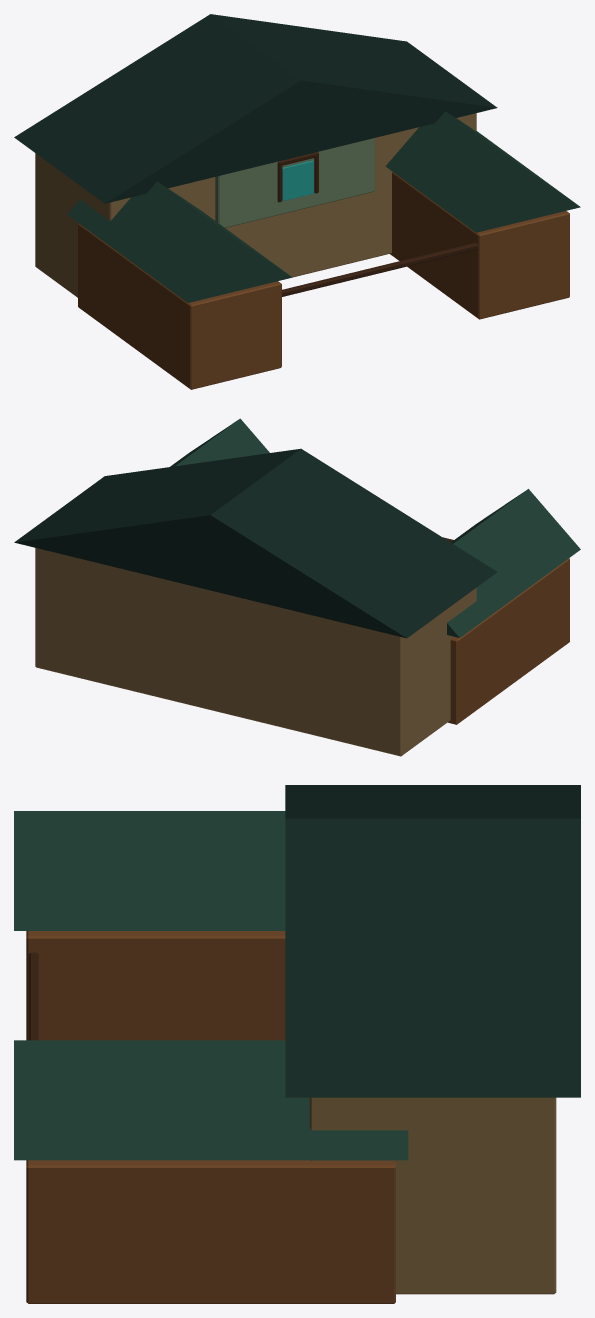
The model's file is LumenOpenStableV2.glb.
3 views of the same model, one above another, from view 1: azimuth 30°, elevation 25°; view 2: azimuth 150°, elevation 25°; view 3: azimuth 270°, elevation 25° (orthographic). The views are drawn at different scales.
Parts seen in each view (by area): view 1: LumenOpenStableV2; view 2: LumenOpenStableV2; view 3: LumenOpenStableV2.
Part boxes in pixels (x1=…): LumenOpenStableV2: x1=14, y1=14, x2=580, y2=389; LumenOpenStableV2: x1=14, y1=418, x2=580, y2=756; LumenOpenStableV2: x1=14, y1=785, x2=580, y2=1303.
Bounding box in the file's own units: 30 × 15 × 23.
Materials: 1 (1 with a texture image).
